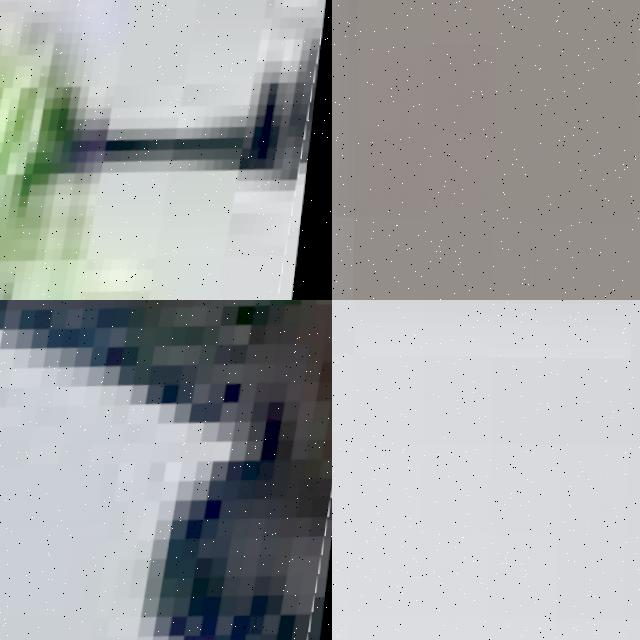drone: (0, 300, 332, 640), (0, 0, 332, 300)
